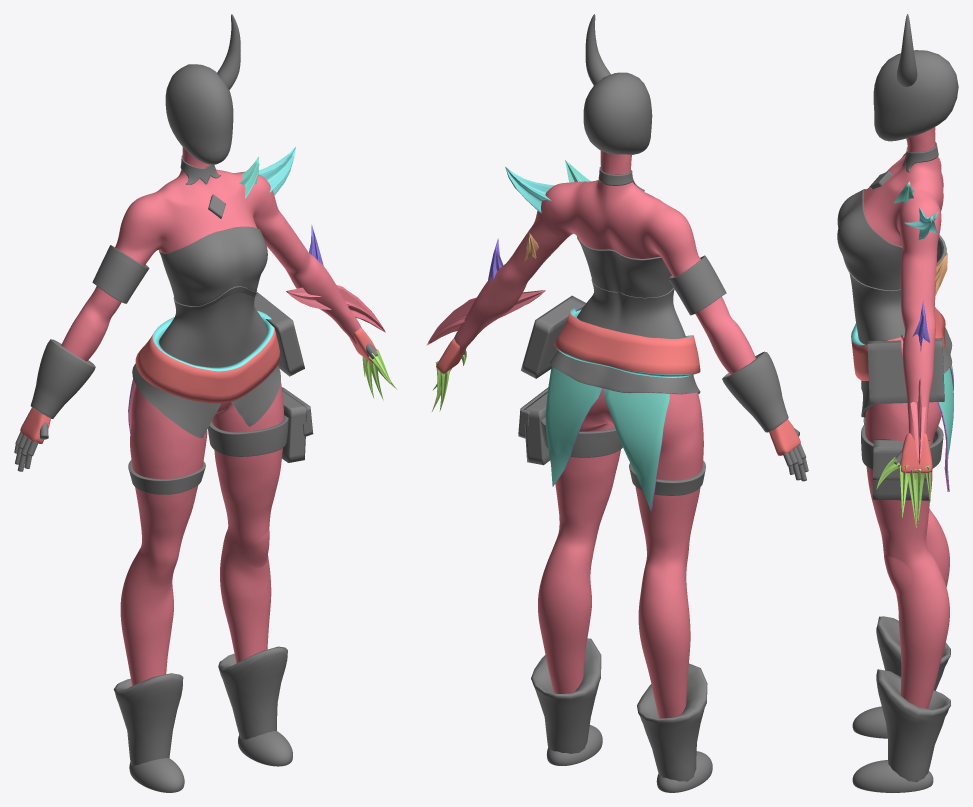
The model's file is cleric test for unity.fbx.
The picture shows the model from 3 angles, left to right: view 1: azimuth 30°, elevation 25°; view 2: azimuth 150°, elevation 25°; view 3: azimuth 270°, elevation 25°; orthographic projection. The views are drawn at different scales.
Parts seen in each view (by area): view 1: PolySphere3_2, Extract9, Extract3_1, Extract5, Extract2, PolySphere, Extract2_copy1, PM3D_Sphere3D1_2, Extract4, Extract1, PM3D_Cube3D1_2, PM3D_Cube3D1_3 (+3 smaller); view 2: PolySphere3_2, Extract3_1, PolySphere3, Extract9, Extract2, PolySphere, Extract5, Extract2_copy1, PM3D_Cube3D1_2, PM3D_Sphere3D1_2, Extract1, Extract4 (+4 smaller); view 3: PolySphere3_2, Extract3_1, PolySphere, Extract5, Extract9, PM3D_Cube3D1_2, PM3D_Sphere3D1_2, PM3D_Cube3D1, PM3D_Cube3D1_3, Extract2, PolySphere3, PM3D_Cylinder3D1 (+5 smaller).
Boxes of the visible parts, <box> form: PolySphere3_2: <box>61,147,385,685</box>; Extract9: <box>132,286,280,438</box>; Extract3_1: <box>113,646,287,766</box>; Extract5: <box>159,226,267,306</box>; Extract2: <box>135,310,280,403</box>; PolySphere: <box>165,64,233,164</box>; Extract2_copy1: <box>30,339,95,418</box>; PM3D_Sphere3D1_2: <box>129,730,292,792</box>; Extract4: <box>207,415,288,456</box>; Extract1: <box>92,245,149,303</box>; PM3D_Cube3D1_2: <box>254,292,304,376</box>; PM3D_Cube3D1_3: <box>282,390,307,462</box>; PolySphere3_2: <box>426,150,755,718</box>; Extract3_1: <box>531,638,707,781</box>; PolySphere3: <box>545,367,669,510</box>; Extract9: <box>549,279,700,394</box>; Extract2: <box>554,308,700,377</box>; PolySphere: <box>583,72,652,154</box>; Extract5: <box>577,236,673,297</box>; Extract2_copy1: <box>722,351,788,432</box>; PM3D_Cube3D1_2: <box>521,295,585,378</box>; PM3D_Sphere3D1_2: <box>546,725,712,792</box>; Extract1: <box>668,255,726,315</box>; Extract4: <box>540,418,622,457</box>; PolySphere3_2: <box>863,127,949,708</box>; Extract3_1: <box>876,616,950,782</box>; PolySphere: <box>873,50,958,141</box>; Extract5: <box>837,189,902,290</box>; Extract9: <box>843,258,952,417</box>; PM3D_Cube3D1_2: <box>867,338,944,404</box>; PM3D_Sphere3D1_2: <box>852,706,933,792</box>; PM3D_Cube3D1: <box>899,433,932,517</box>; PM3D_Cube3D1_3: <box>872,439,930,500</box>; Extract2: <box>851,307,945,380</box>; PolySphere3: <box>937,365,953,491</box>; PM3D_Cylinder3D1: <box>897,14,917,86</box>.
Size of the model in its own units: 5.08 by 9.57 by 1.39.
